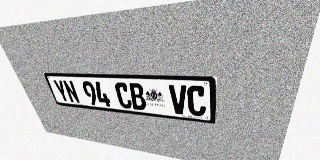4: (92, 81, 112, 107)
9: (81, 81, 100, 106)
B: (128, 83, 147, 111)
C: (187, 85, 206, 117), (114, 82, 133, 109)
N: (62, 80, 81, 104)
V: (169, 85, 188, 115)
Y: (52, 80, 71, 102)
